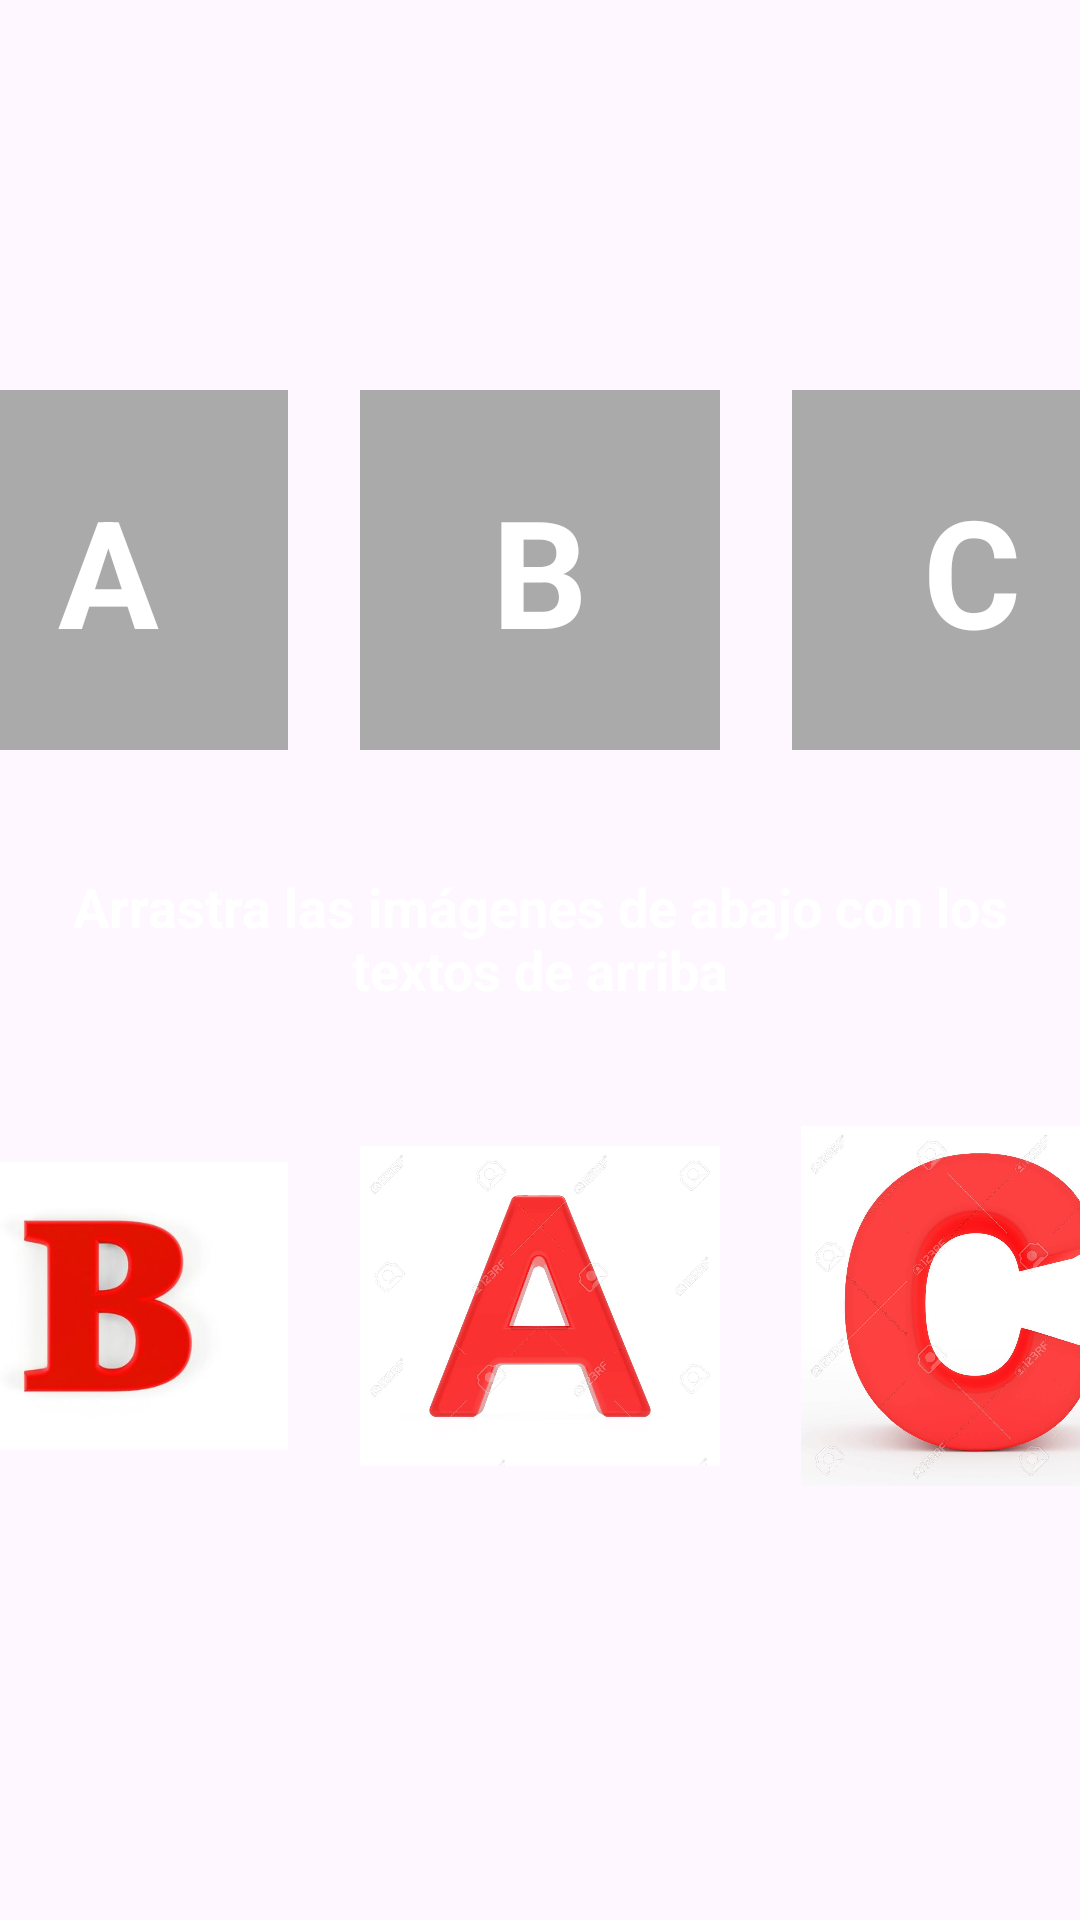

Icons on this 1080 × 1920 Android screen, each with its box as rect(x1, y1, x2, y2):
Letra A: rect(374, 1156, 707, 1463)
